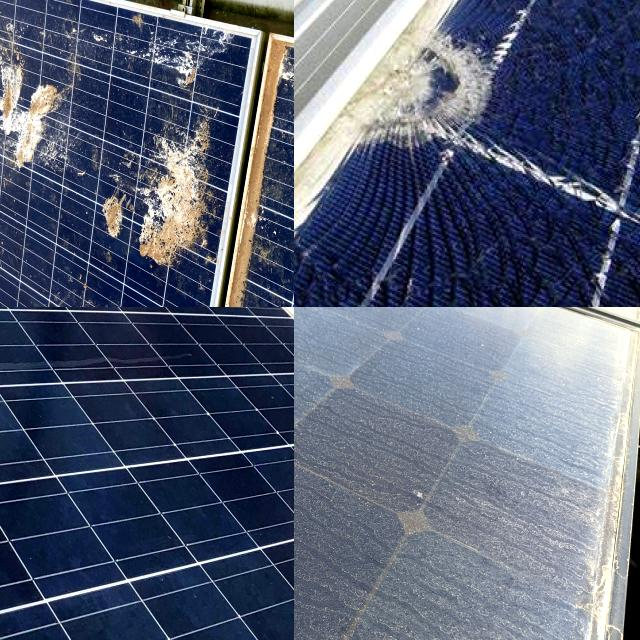bird: (132, 0, 258, 109), (70, 202, 188, 307), (196, 177, 251, 307), (0, 101, 67, 199), (77, 130, 158, 194)
dust: (32, 307, 225, 579), (0, 307, 114, 538), (399, 523, 570, 640), (294, 307, 421, 461), (446, 377, 573, 497), (294, 459, 371, 640), (294, 307, 353, 528)
hotspot: (362, 0, 525, 187)
